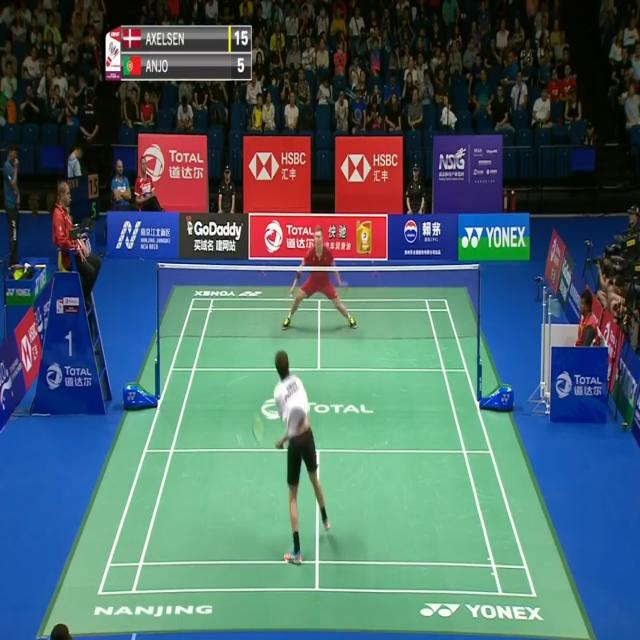Player1: (252, 348, 335, 572)
Player2: (279, 222, 361, 332)
